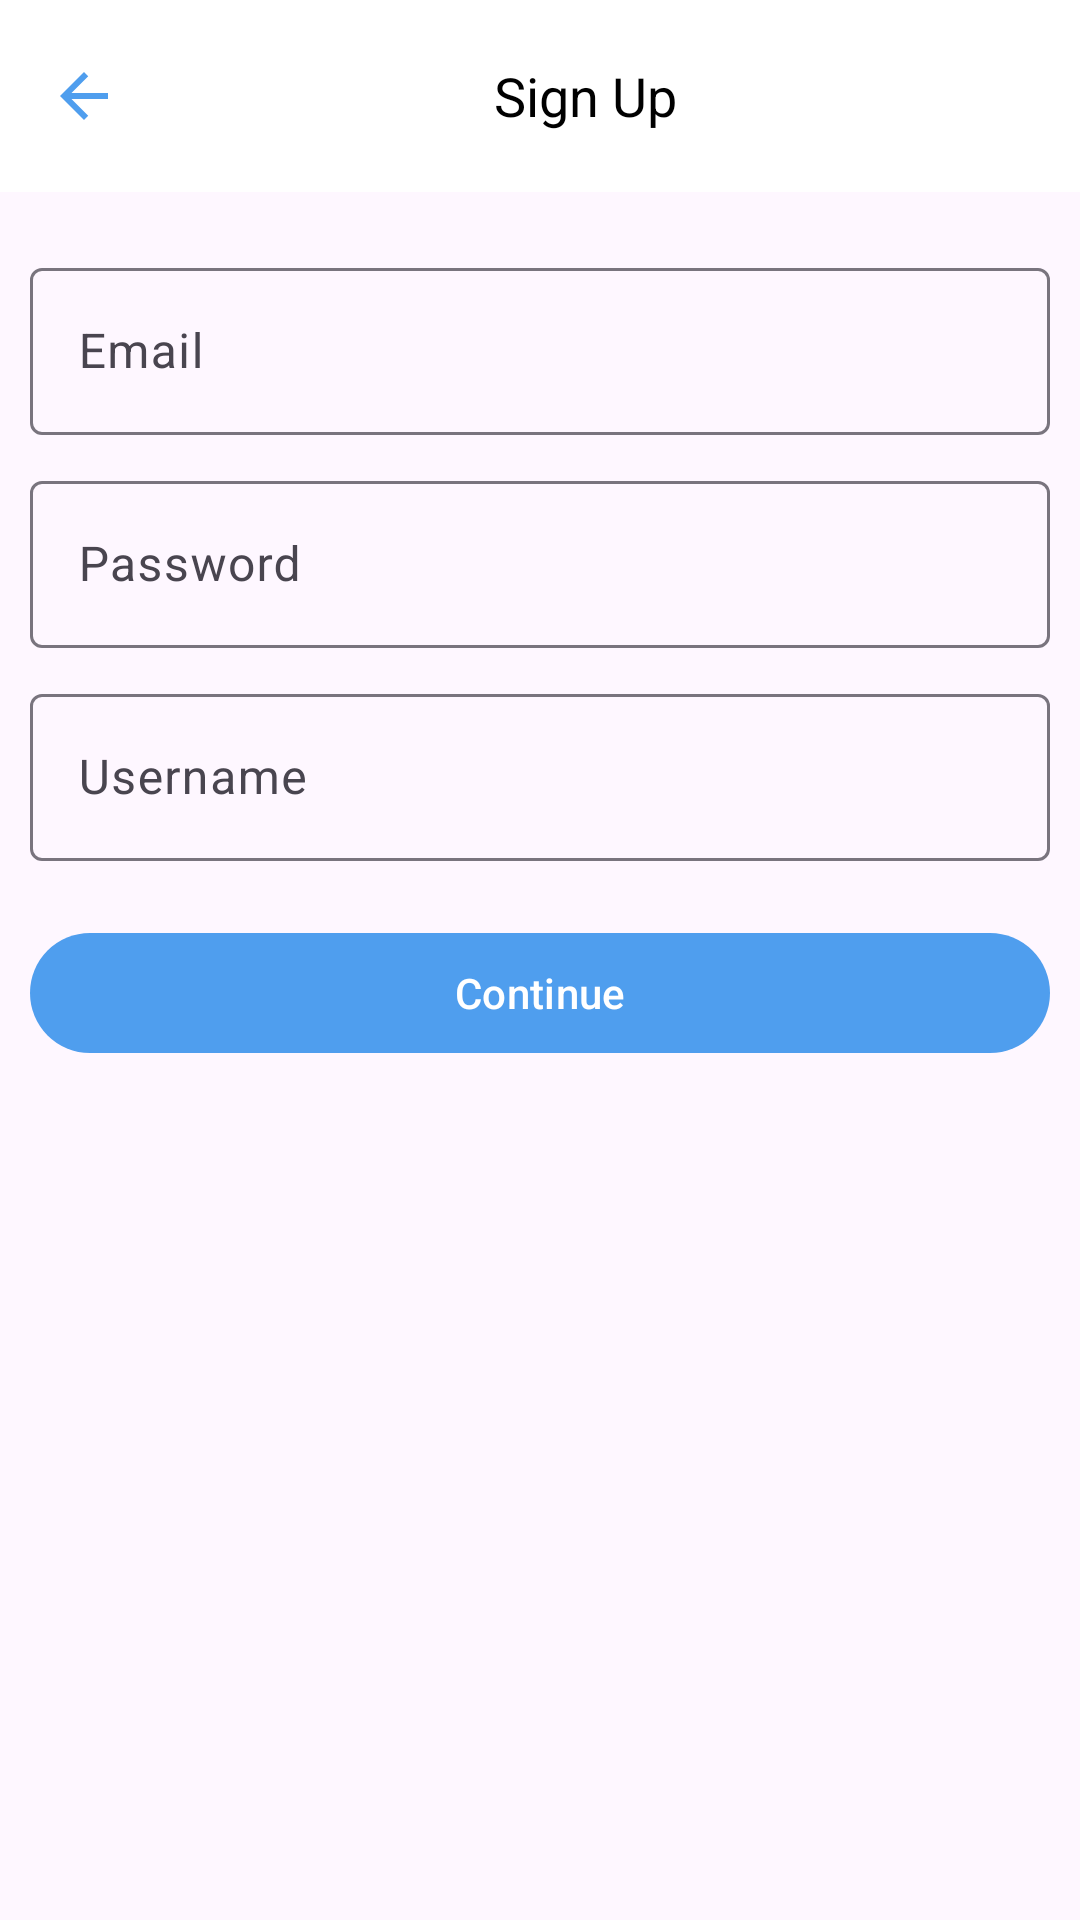

Screen size 1080 x 1920. Icon name, then its center in pixels as point (x, y):
arrow back: point (84, 96)
